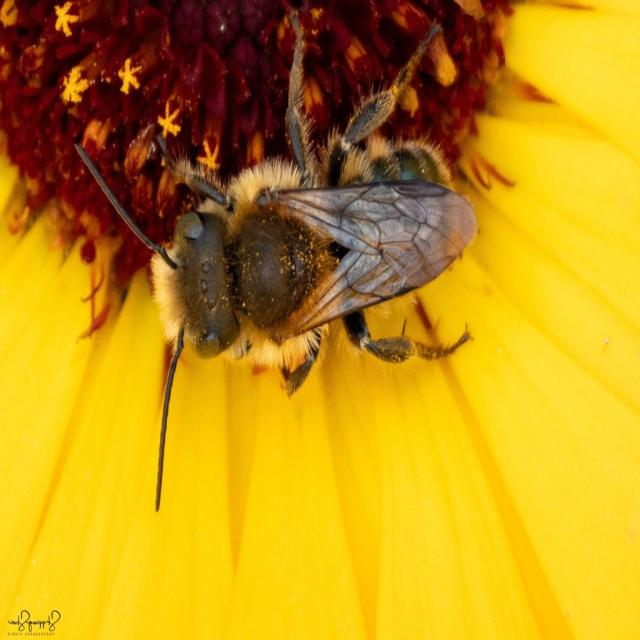bee: (74, 11, 475, 522)
